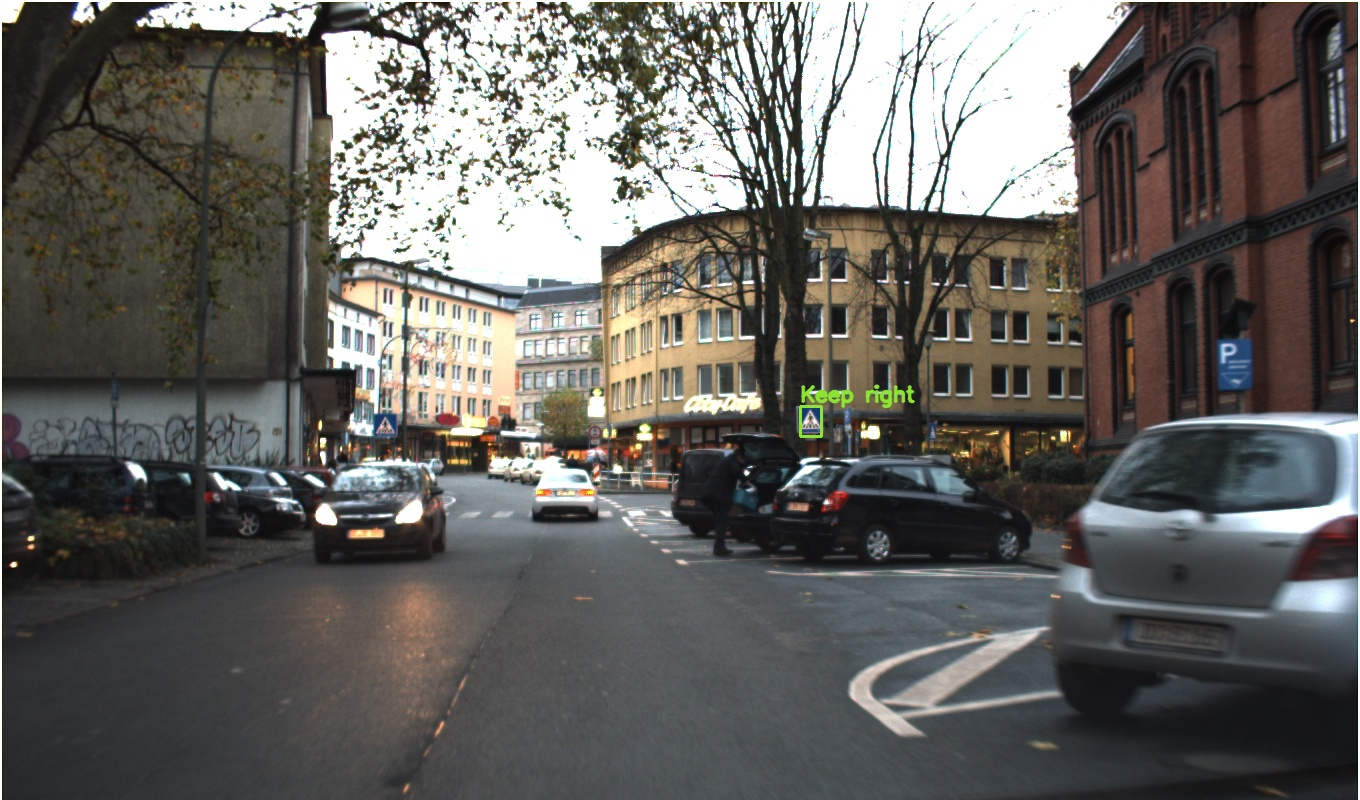Stop: (1185, 130, 1295, 236)
Turn right ahead: (1214, 241, 1288, 312)
